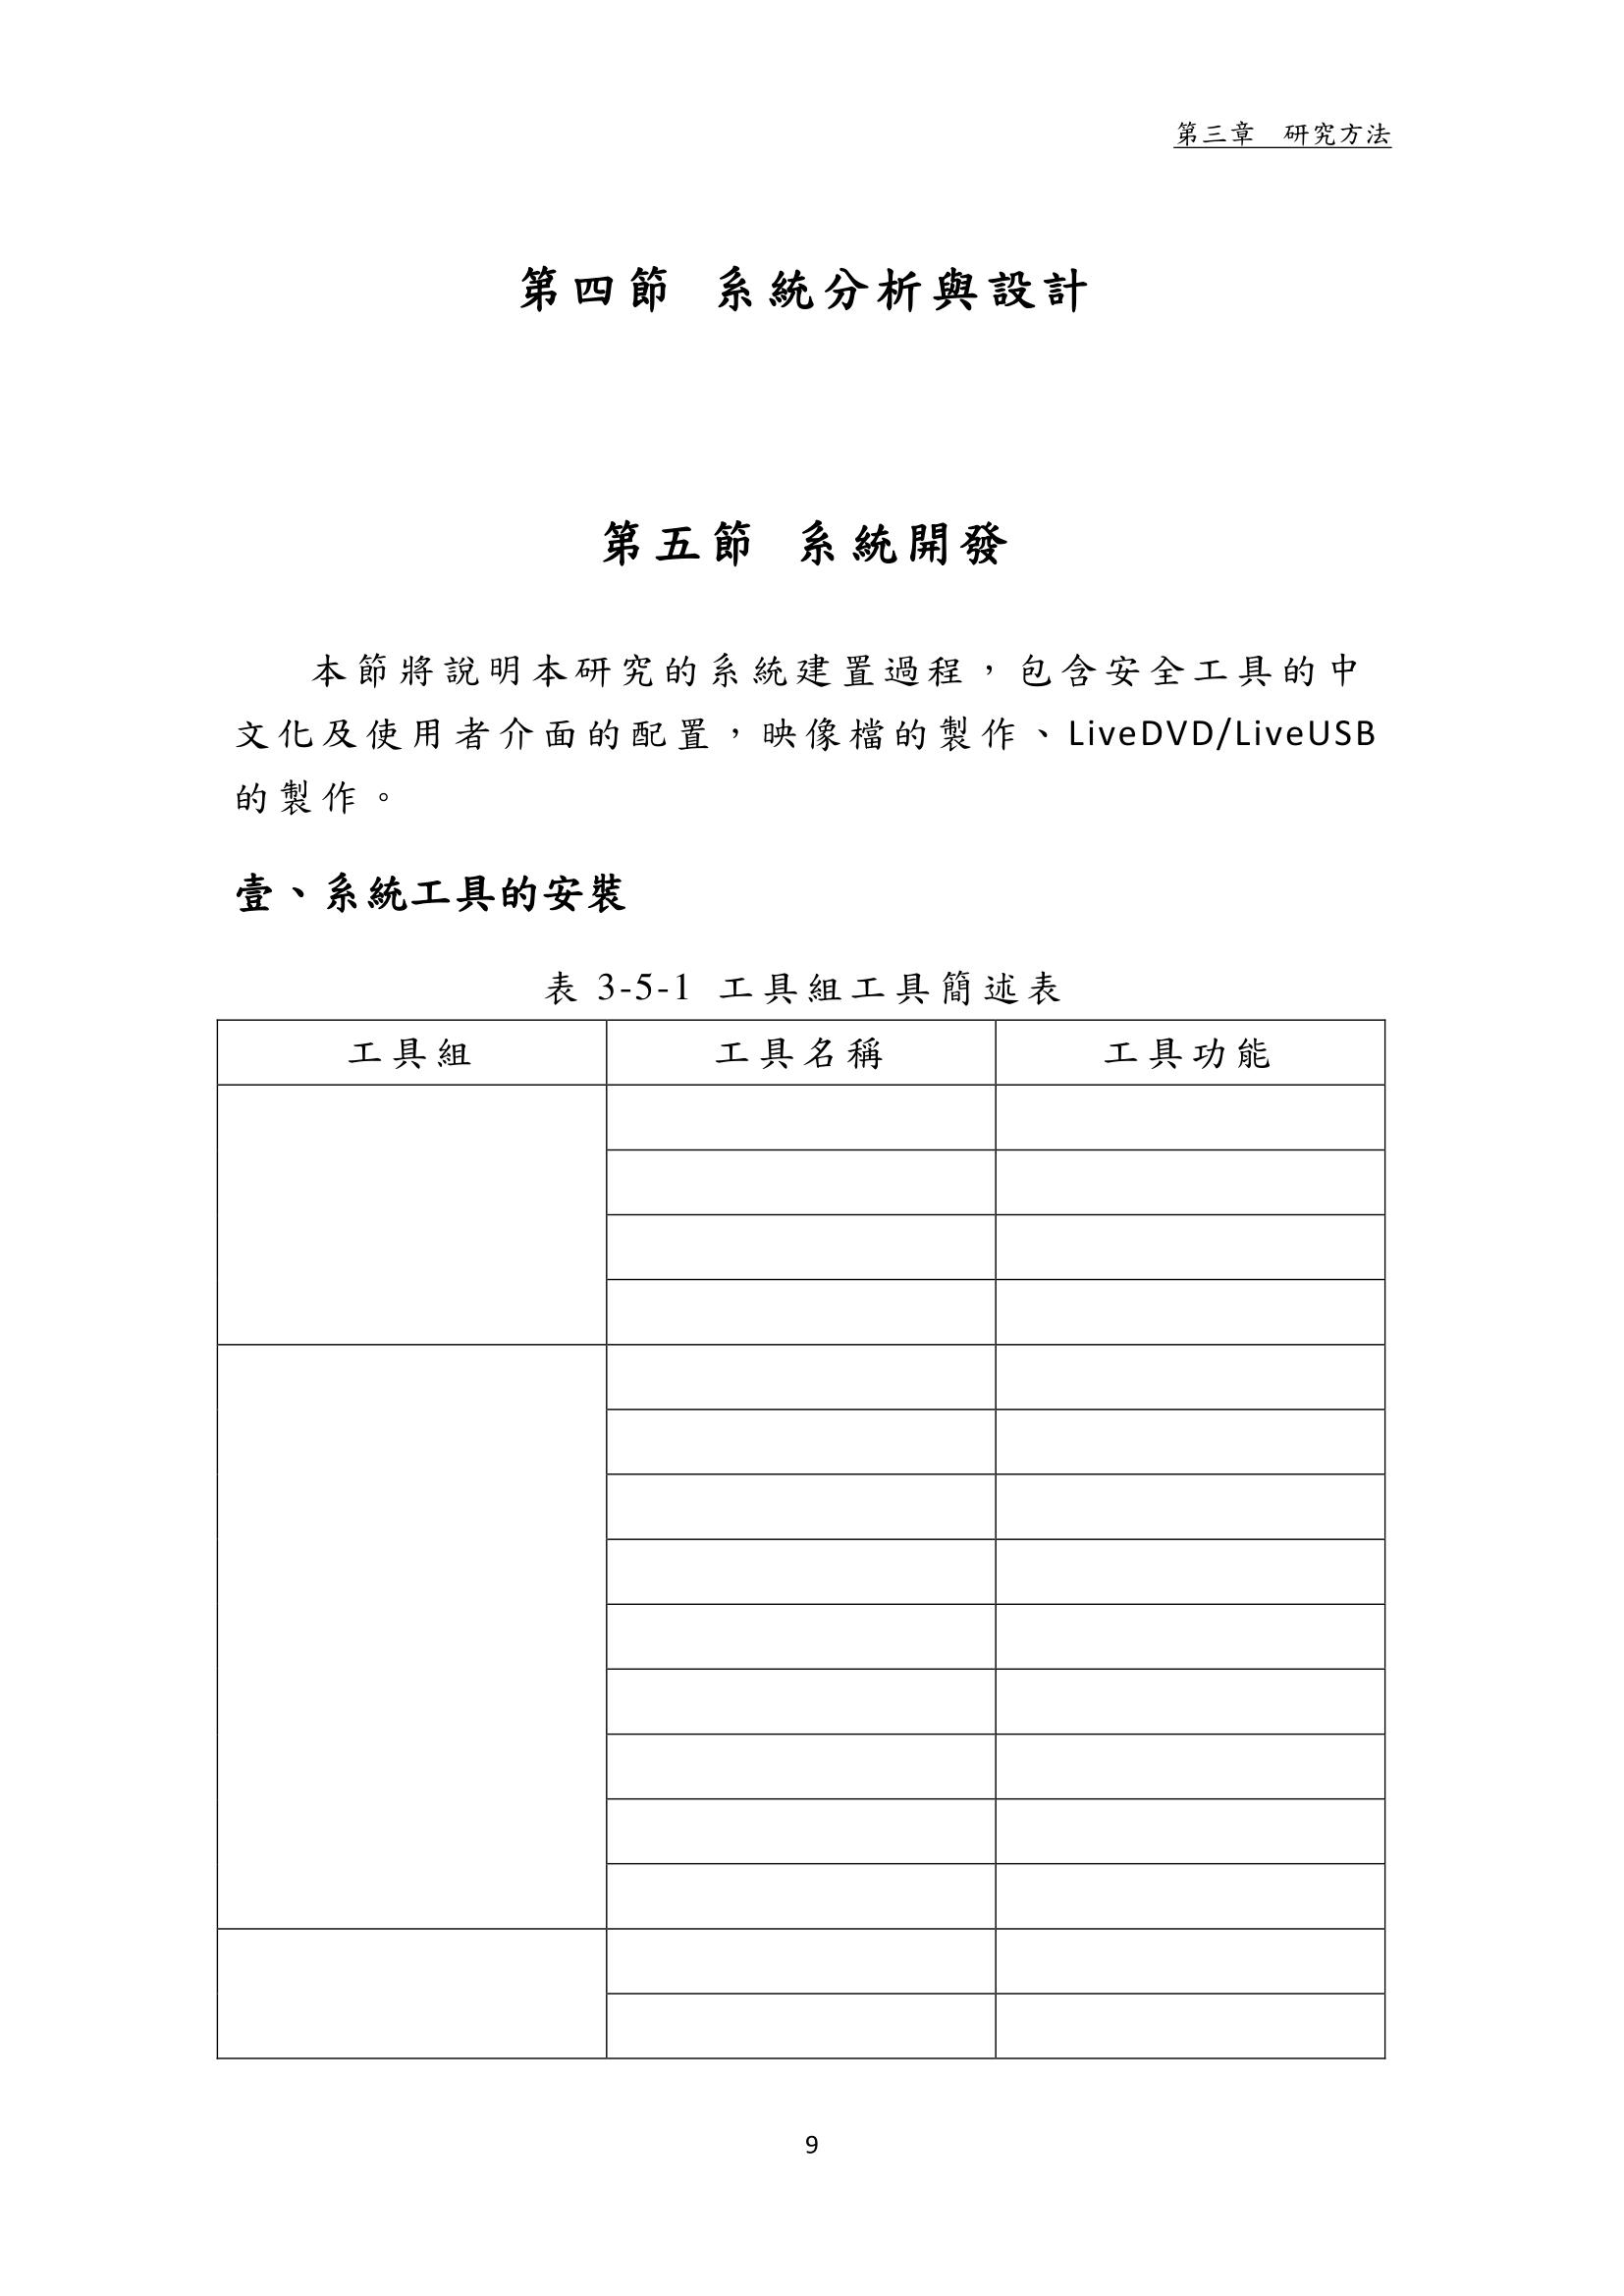table: (204, 1012, 1404, 2083)
text: (207, 638, 1403, 838), (504, 221, 1102, 355), (575, 508, 1032, 580), (526, 954, 1067, 1012), (195, 857, 645, 926)
